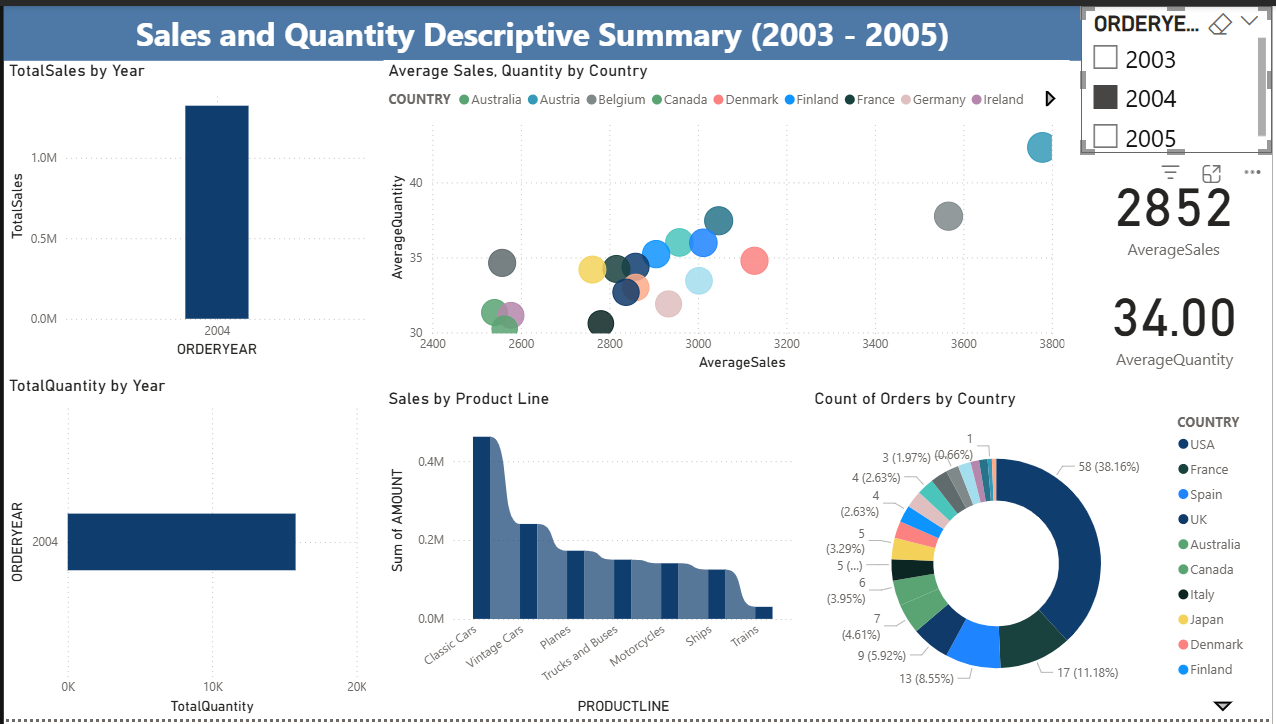

What the dashboard file says about the page in this screenshot:
{"tool":"powerbi","page":{"name":"Page 1","canvas":[1280,720],"ordinal":0},"visuals":[{"type":"columnChart","title":"TotalSales by Year","fields":{"Category":["orders.ORDERYEAR Hierarchy.ORDERYEAR","orders.ORDERYEAR Hierarchy.ORDERQUARTER","orders.ORDERYEAR Hierarchy.ORDERMONTH","orders.ORDERYEAR Hierarchy.ORDERDAY","orders.ORDERYEAR Hierarchy.AMOUNT"],"Y":["orders.TotalSales"]},"box":[0,55.3,371.2,303.9],"z":0},{"type":"textbox","box":[0,0,1087.8,55.3],"z":1000},{"type":"clusteredBarChart","title":"TotalQuantity by Year","fields":{"Category":["orders.ORDERYEAR Hierarchy.ORDERYEAR","orders.ORDERYEAR Hierarchy.ORDERQUARTER","orders.ORDERYEAR Hierarchy.ORDERMONTH","orders.ORDERYEAR Hierarchy.ORDERDAY","orders.ORDERYEAR Hierarchy.AMOUNT"],"Y":["orders.TotalQuantity"]},"box":[0,372.8,370.6,346],"z":2000},{"type":"slicer","fields":{"Values":["orders.ORDERYEAR"]},"box":[1087.8,0,191.7,148.5],"z":3000},{"type":"donutChart","title":"Count of Orders by Country","fields":{"Category":["customers.COUNTRY"],"Y":["CountNonNull(customers.ORDERNUMBER)"]},"box":[813.2,386.8,466.2,333.2],"z":4000},{"type":"ribbonChart","title":"Sales by Product Line","fields":{"Category":["orders.PRODUCTLINE"],"Y":["Sum(orders.AMOUNT)"]},"box":[383.3,386.8,417.8,333.2],"z":5000},{"type":"card","fields":{"Values":["orders.AverageSales"]},"box":[1087.8,153.7,186.5,107.1],"z":6000},{"type":"card","fields":{"Values":["orders.AverageQuantity"]},"box":[1087.8,260.7,188.2,114],"z":7000},{"type":"scatterChart","title":"Average Sales, Quantity by Country","fields":{"X":["orders.AverageSales"],"Y":["orders.AverageQuantity"],"Category":["customers.COUNTRY"],"Series":["customers.COUNTRY"],"Size":["orders.AverageQuantity"]},"box":[383.3,55.3,692.4,317.7],"z":8000}]}

Visuals, with their boxes in screenshot pixels (x1, y1, x2, y2), scaled from the page's 1280x720 canvas onto the 1276x724 screenshot:
"TotalSales by Year" columnChart: l=0, t=56, r=370, b=361
textbox: l=0, t=0, r=1084, b=56
"TotalQuantity by Year" clusteredBarChart: l=0, t=375, r=369, b=723
slicer - orders.ORDERYEAR: l=1084, t=0, r=1275, b=149
"Count of Orders by Country" donutChart: l=811, t=389, r=1275, b=723
"Sales by Product Line" ribbonChart: l=382, t=389, r=799, b=723
card - orders.AverageSales: l=1084, t=155, r=1270, b=262
card - orders.AverageQuantity: l=1084, t=262, r=1272, b=377
"Average Sales, Quantity by Country" scatterChart: l=382, t=56, r=1072, b=375
